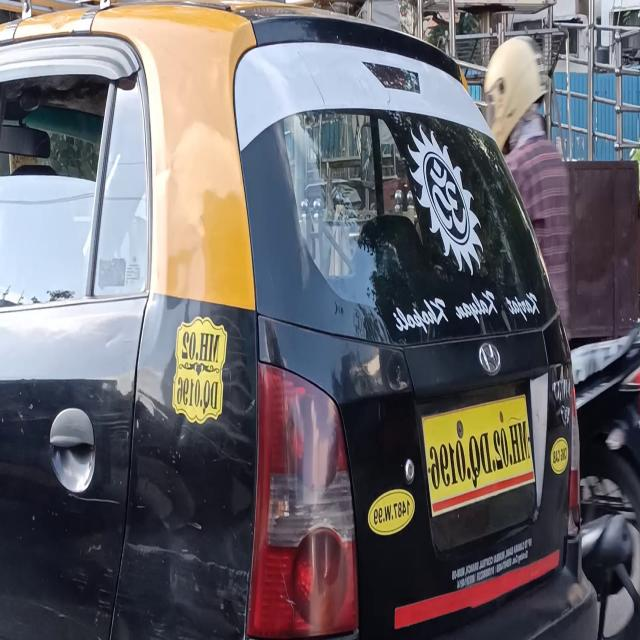license_plate: (420, 379, 537, 526), (169, 316, 231, 434)
